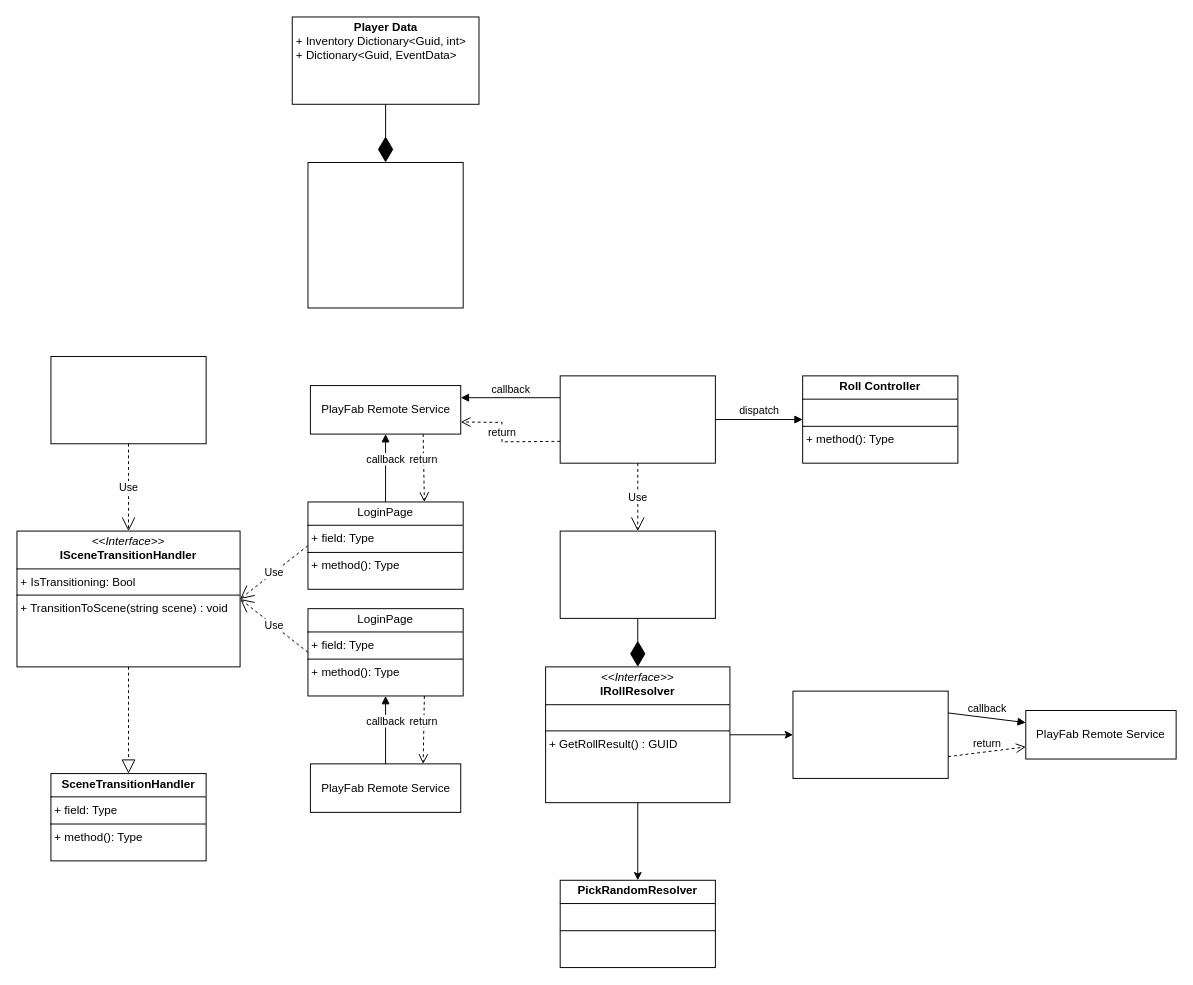
The diagram is 1193 pixels wide and 985 high, and some of its shapes have lost their labels. Here are the shapes that lost their labels. From the top down, the centre of each, then its label:
pixel 385 235: EventData +Currency : float +Rolls: Hashset<RollData> +Pity
pixel 128 400: Banner Selection Handler + field: Type + method(): Type
pixel 637 419: Roll Controller + field: Type + Roll()
pixel 637 574: Banner Data + DisplayedRarity + RarityValue + RollResolver
pixel 870 734: WeightedResolver
